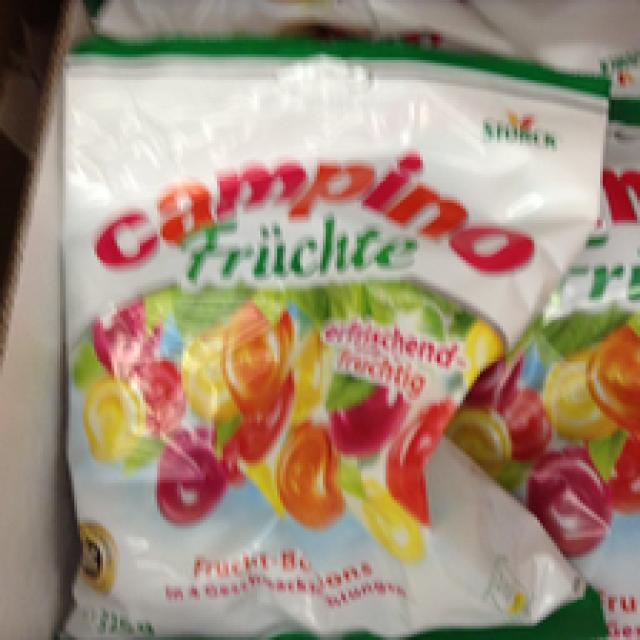groceries: (63, 43, 574, 631)
